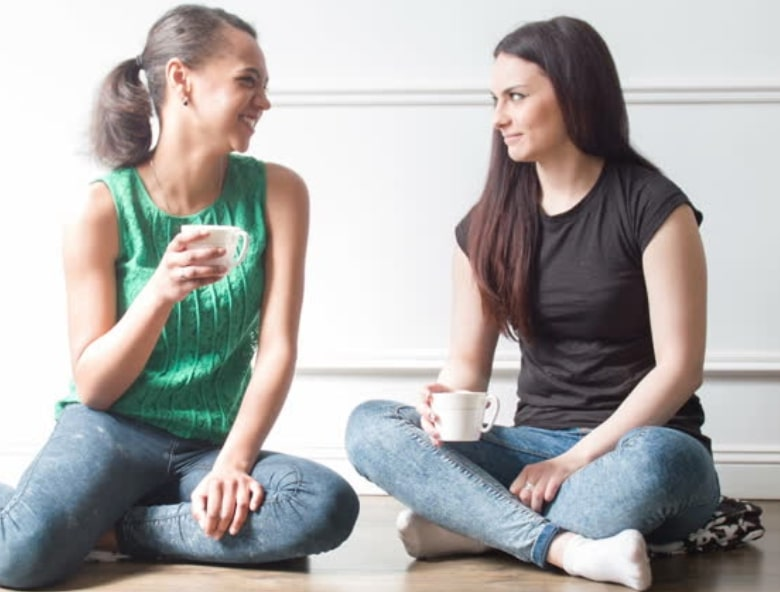Bad: (2, 3, 719, 590)
